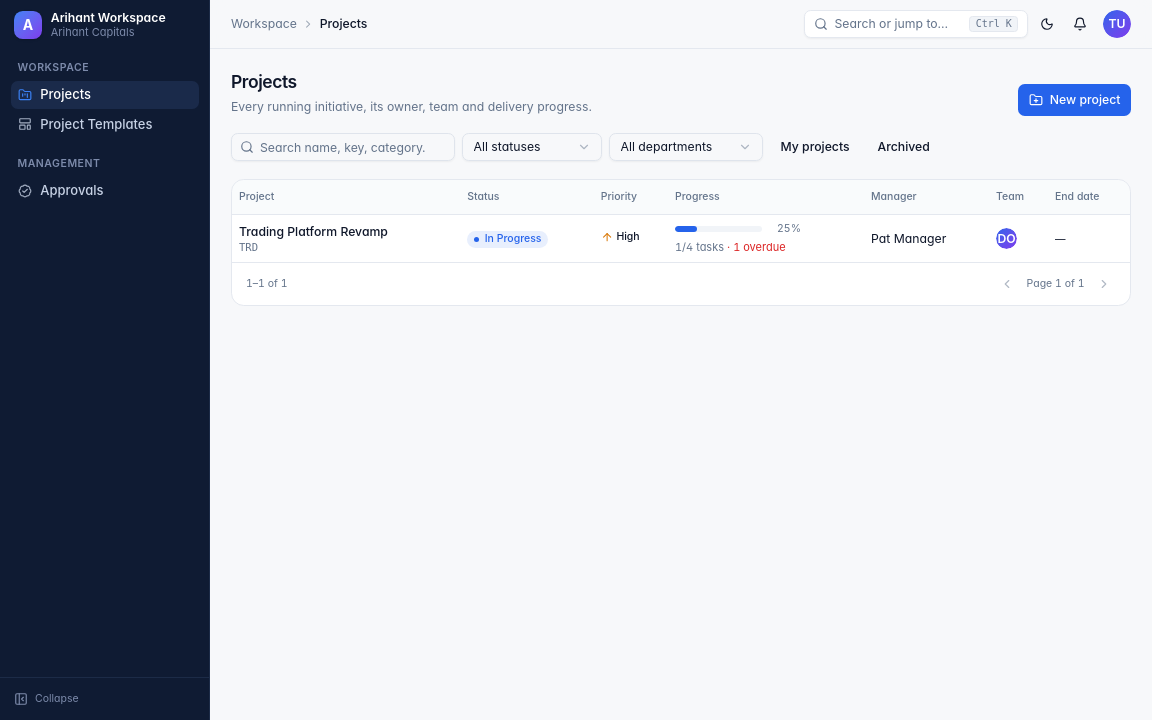
Test: ProjectsPage › lists projects with real progress figures and opens the project on click
Expected: the text "1/4 tasks" is shown, [675,240,801,255]
Expected: the text "· 1 overdue" is shown, [724,240,786,254]
Click the text "Trading Platform Revamp" at (314, 231), box [239,224,388,239]
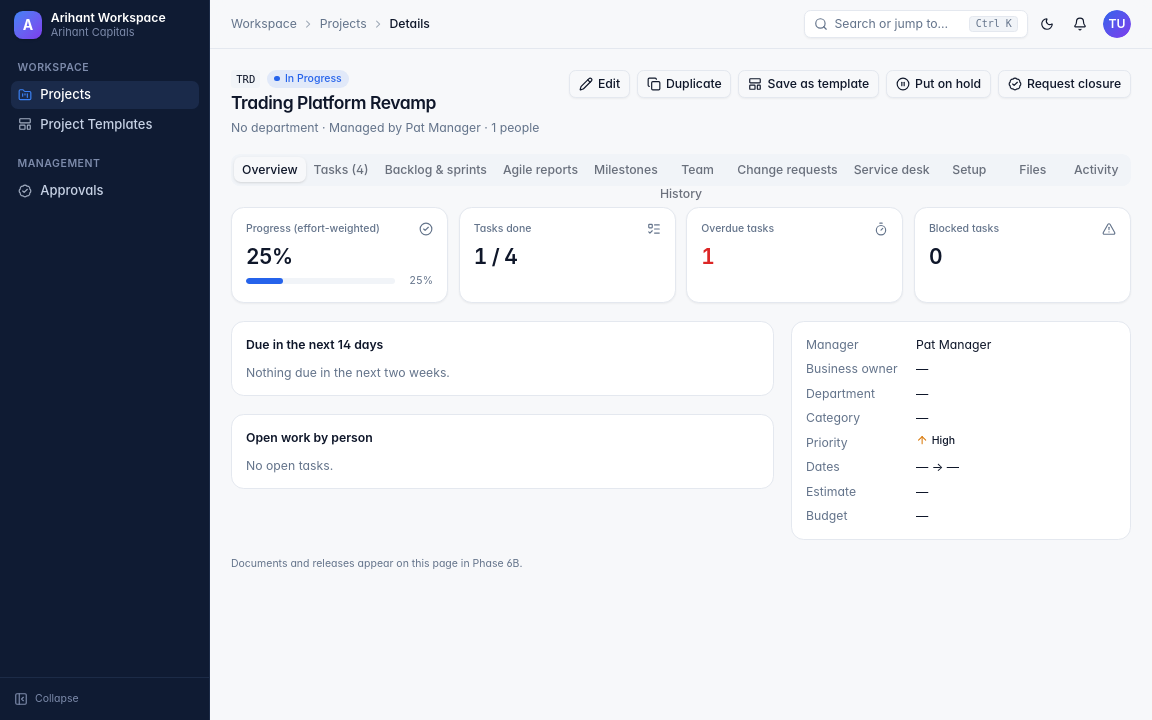
Now the heading "Trading Platform Revamp" is shown, box [231,92,436,113]
